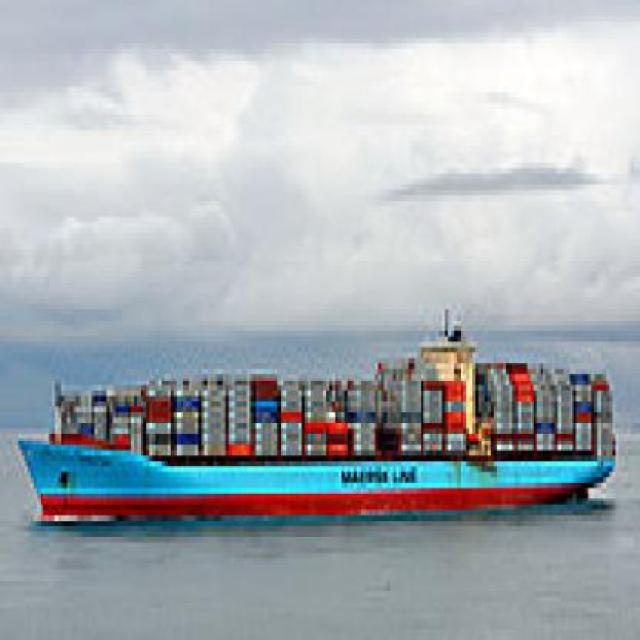container: (16, 327, 629, 533)
